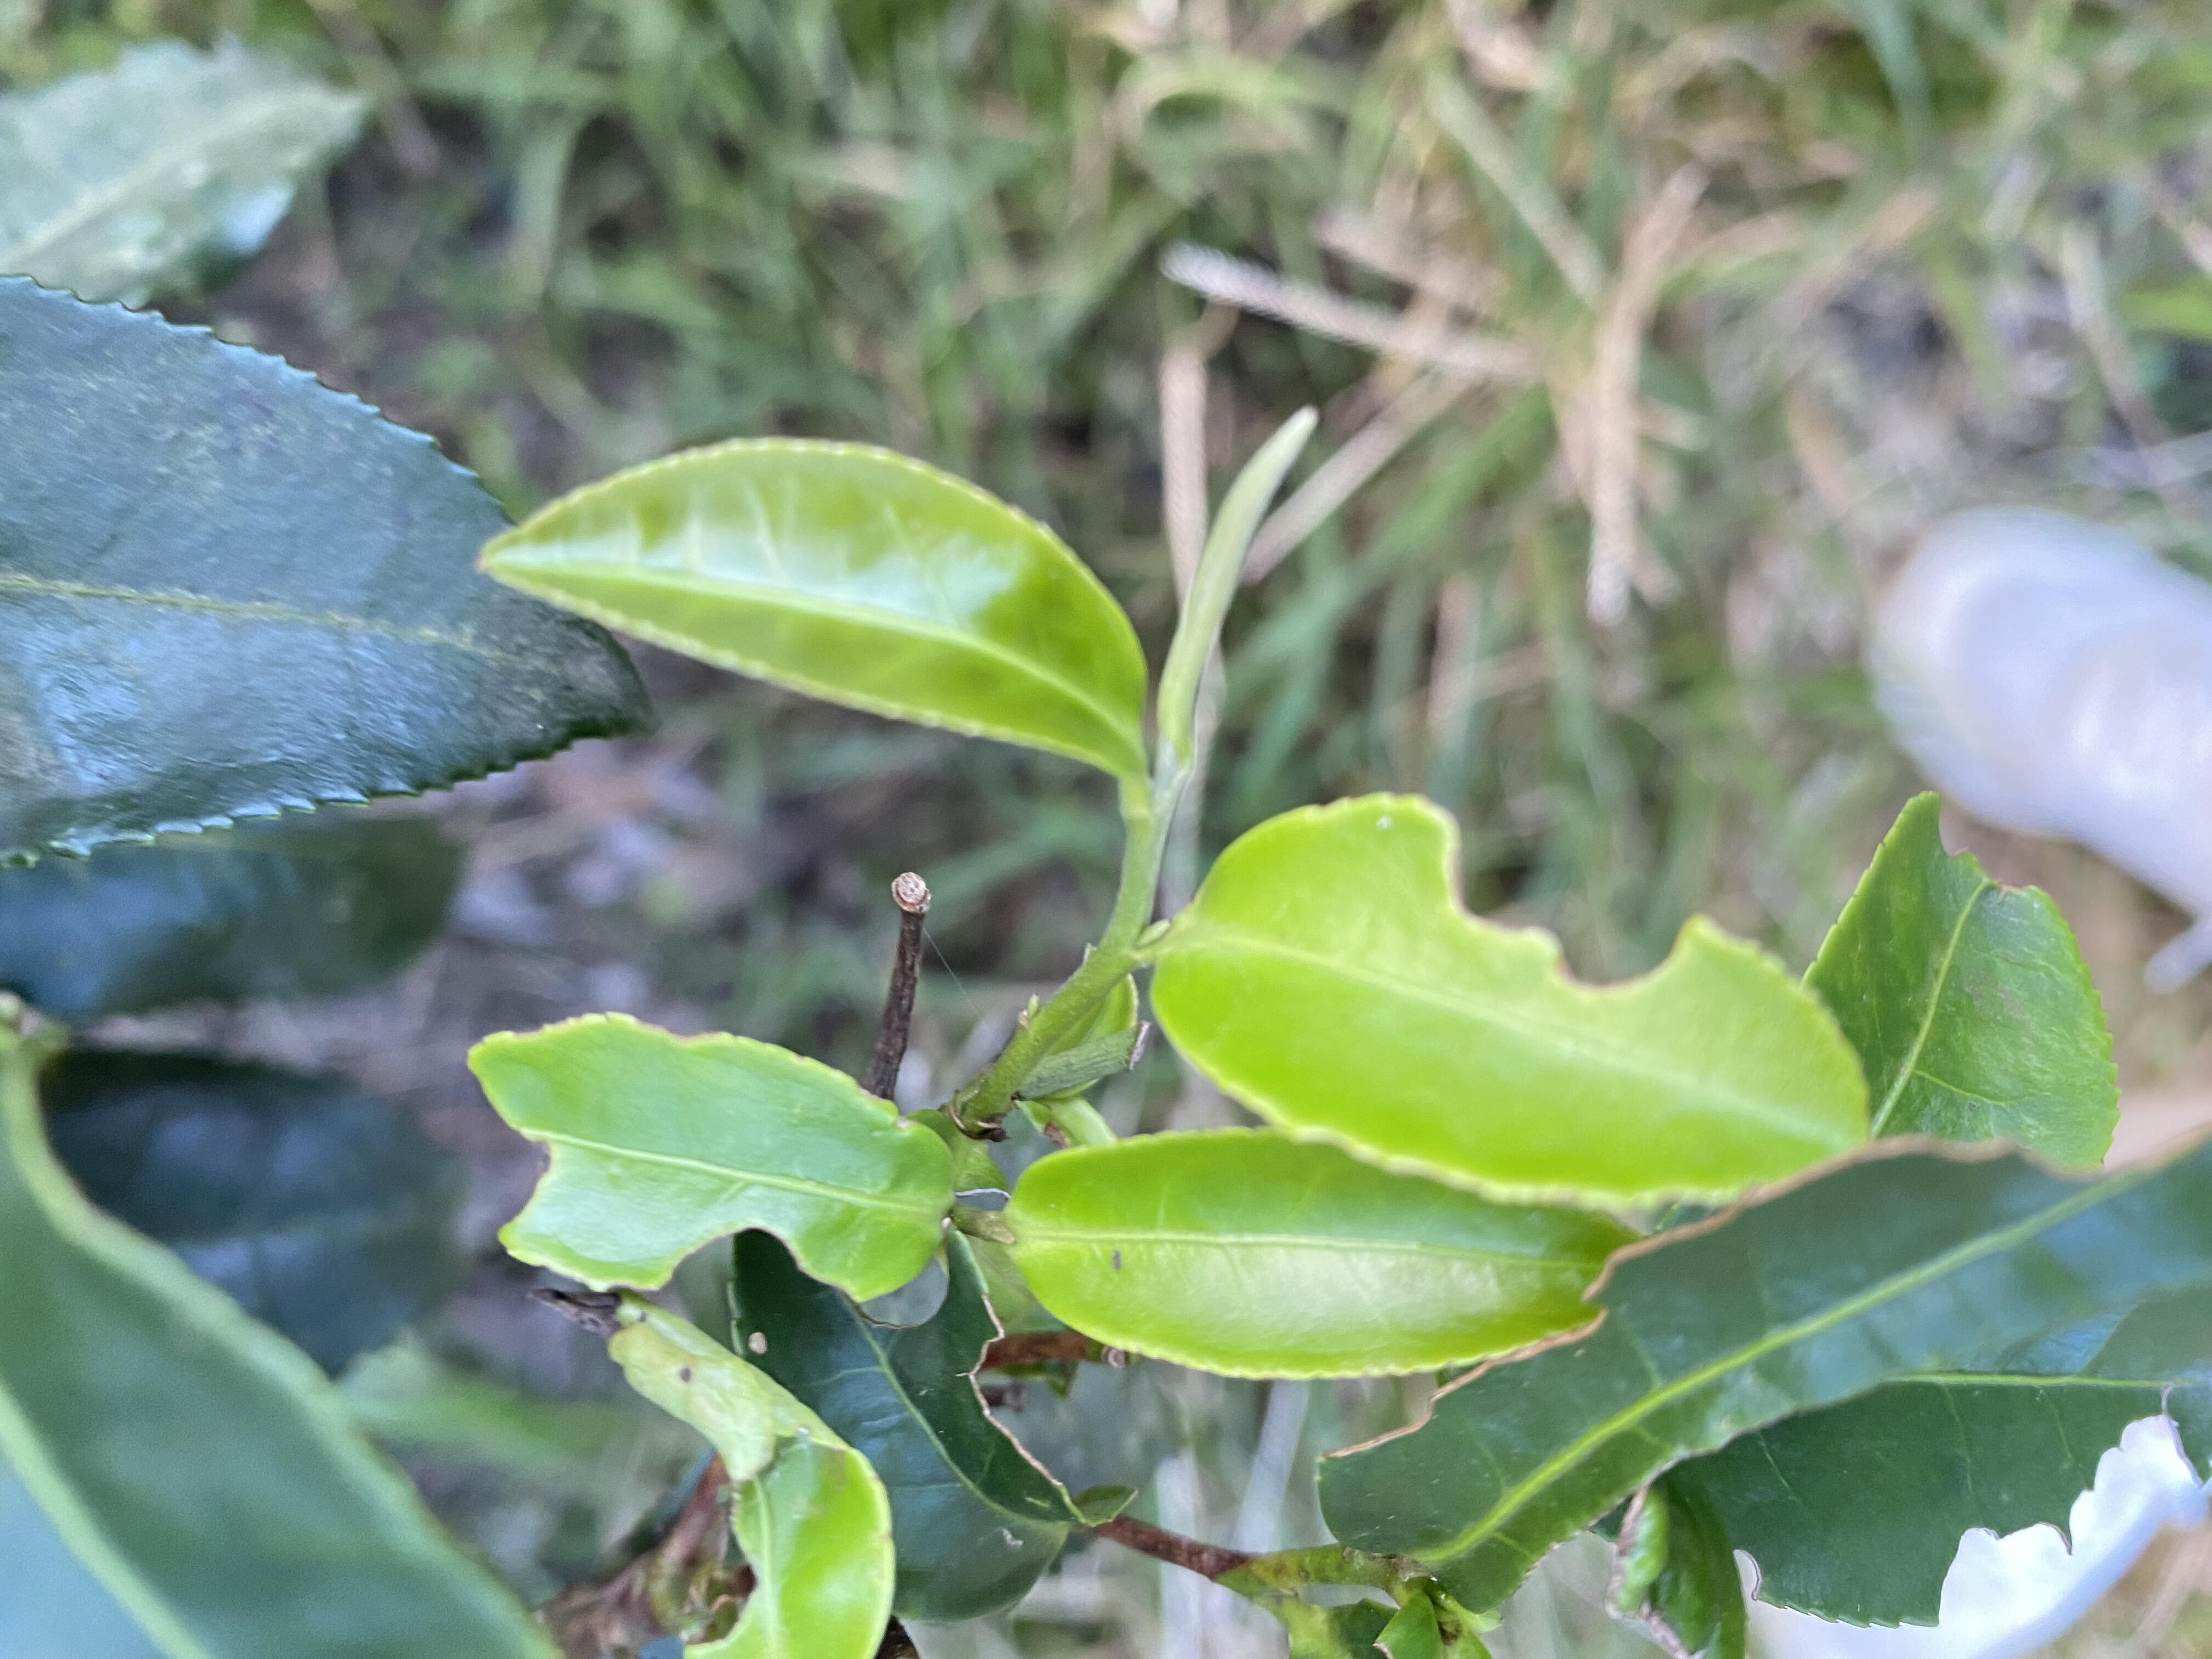chihuo_high: (1313, 1131, 2210, 1603), (1150, 791, 1874, 1215), (728, 1232, 1144, 1626), (465, 1007, 960, 1305)
chihuo_low: (996, 1131, 1642, 1377), (1799, 786, 2123, 1168)
healthy: (2, 270, 664, 871), (474, 429, 1160, 796)
tanju_high: (529, 1277, 897, 1650)
